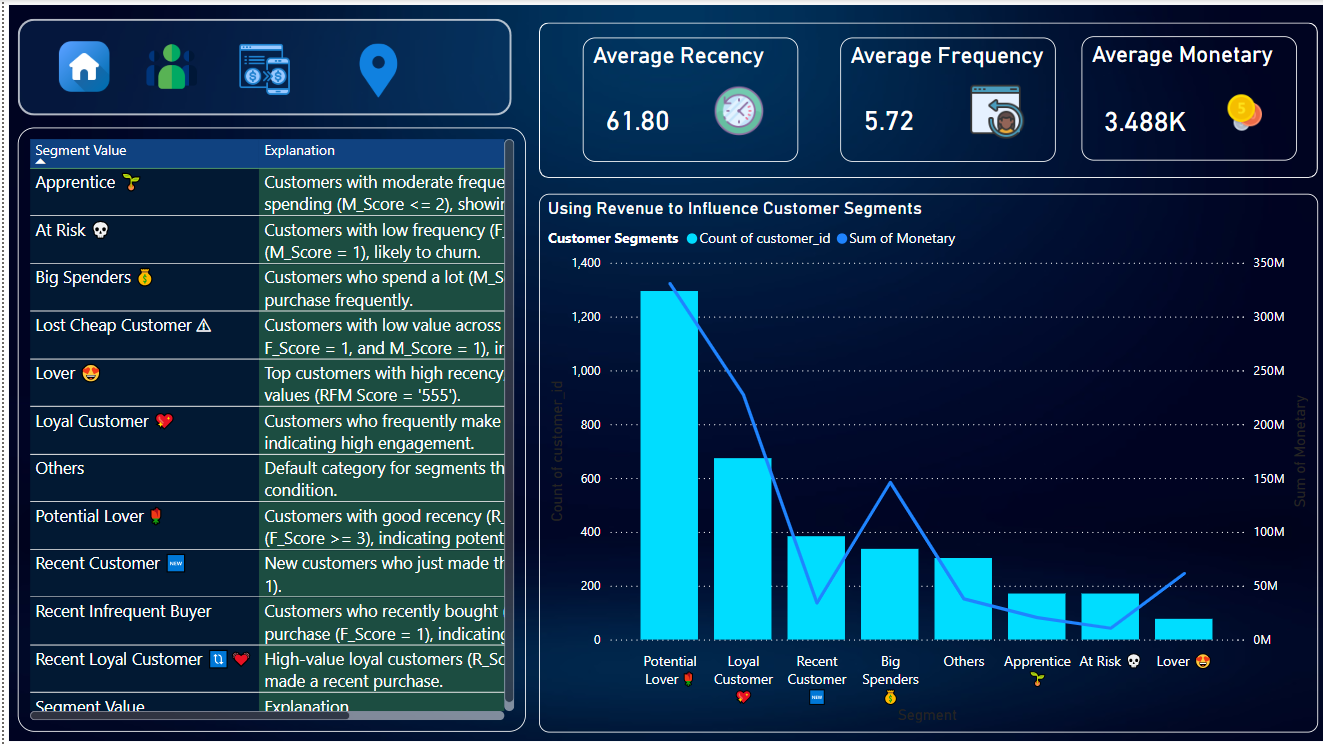

This screenshot's page, from the dashboard's own definition file:
{"tool":"powerbi","page":{"name":"customer","canvas":[1280,720],"ordinal":2},"visuals":[{"type":"image","box":[0,0,1280,720],"z":0},{"type":"shape","box":[516.7,21.7,751.7,150],"z":1000},{"type":"lineStackedColumnComboChart","title":"Using Revenue to Influence Customer Segments","fields":{"Category":["segmainCustomer.Segment"],"Y":["CountNonNull(segmainCustomer.customer_id)"],"Y2":["Sum(segmainCustomer.Monetary)"]},"box":[516.7,186.7,751.7,520],"z":3000},{"type":"tableEx","fields":{"Values":["customer_segments_reference.Column1","customer_segments_reference.Column2"]},"box":[13.3,123.3,490,583.3],"z":4000},{"type":"shape","box":[13.3,18.3,476.7,93.3],"z":5000},{"type":"image","box":[128.3,35,68.3,58.3],"z":6000},{"type":"image","box":[215.7,35.7,71.4,61.4],"z":7000},{"type":"image","box":[322.9,37.1,75.7,61.4],"z":8000},{"type":"image","box":[38.3,35,78.3,58.3],"z":9000},{"type":"cardVisual","title":"Average Recency","fields":{"Data":["Avg(segmainCustomer.Recency)"]},"box":[558.3,36.7,208.3,120],"z":10000},{"type":"cardVisual","title":"Average Frequency","fields":{"Data":["Avg(segmainCustomer.Frequency)"]},"box":[806.7,36.7,208.3,120],"z":11000},{"type":"cardVisual","title":"Average Monetary","fields":{"Data":["CountNonNull(segmainCustomer.Monetary)"]},"box":[1040,35,208.3,120],"z":12000}]}

Visuals, with their boxes in screenshot pixels (x1, y1, x2, y2), scaled from the page's 1280x720 canvas onto the 1323x745 screenshot:
image: x1=0, y1=0, x2=1322, y2=744
shape: x1=534, y1=22, x2=1311, y2=178
"Using Revenue to Influence Customer Segments" lineStackedColumnComboChart: x1=534, y1=193, x2=1311, y2=731
tableEx - customer_segments_reference.Column1 x customer_segments_reference.Column2: x1=14, y1=128, x2=520, y2=731
shape: x1=14, y1=19, x2=506, y2=115
image: x1=133, y1=36, x2=203, y2=97
image: x1=223, y1=37, x2=297, y2=100
image: x1=334, y1=38, x2=412, y2=102
image: x1=40, y1=36, x2=121, y2=97
"Average Recency" cardVisual: x1=577, y1=38, x2=792, y2=162
"Average Frequency" cardVisual: x1=834, y1=38, x2=1049, y2=162
"Average Monetary" cardVisual: x1=1075, y1=36, x2=1290, y2=160
